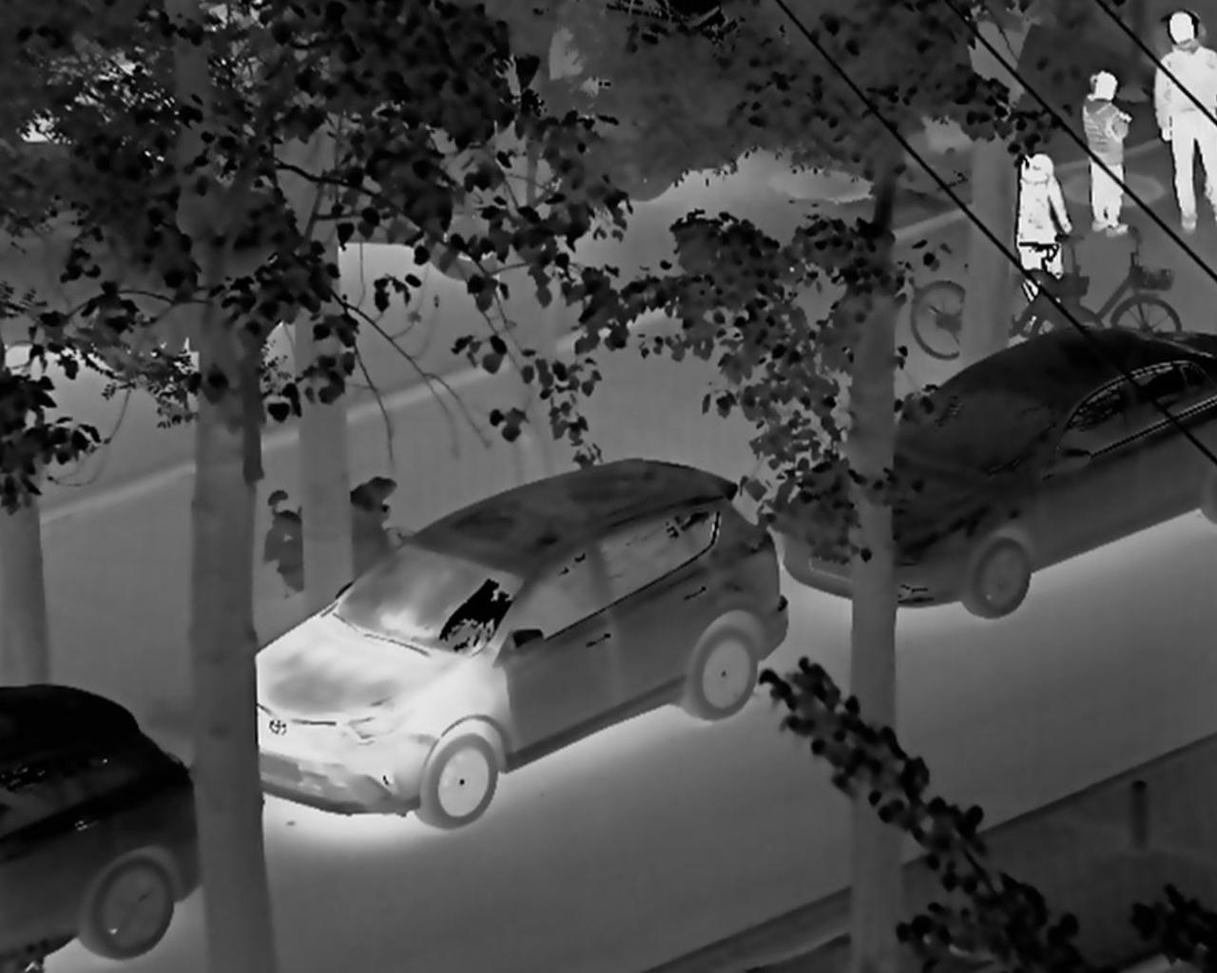person: (1147, 14, 1217, 252), (1074, 57, 1141, 246), (1014, 144, 1066, 313)
